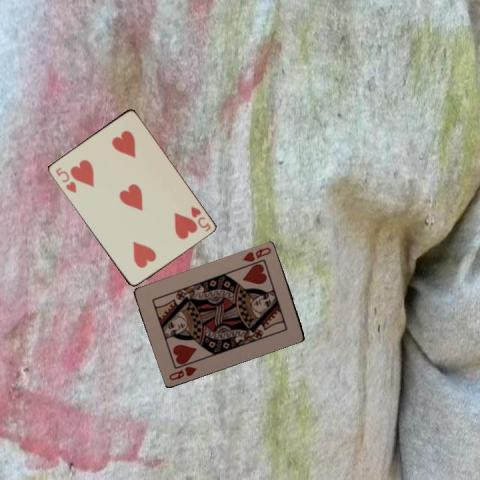5h: (52, 164, 77, 195), (187, 204, 212, 234)
Qh: (239, 244, 273, 263), (166, 363, 198, 381)
